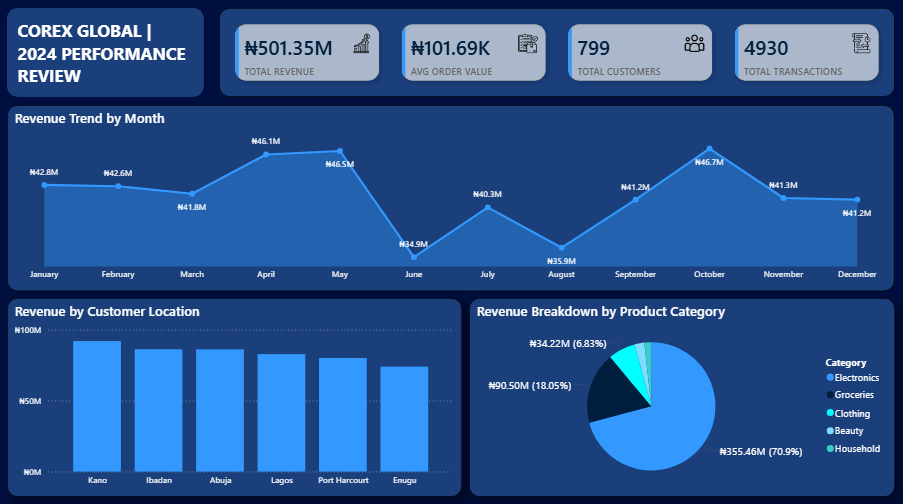

This screenshot's page, from the dashboard's own definition file:
{"tool":"powerbi","page":{"name":"Executive Overview","canvas":[1280,720],"ordinal":0},"visuals":[{"type":"textbox","box":[9.9,11.3,279.2,126.1],"z":0},{"type":"areaChart","title":"Revenue Trend by Month","fields":{"Y":["Sum(monthly rev 2024.Monthly_Revenue)"],"Category":["monthly rev 2024.MonthName"]},"box":[10.1,149.5,1258.2,263.7],"z":1000},{"type":"columnChart","title":"Revenue by Customer Location","fields":{"Y":["Sum(rev by loc.Revenue)"],"Category":["rev by loc.Location"]},"box":[9.9,422.4,644.9,282],"z":2000},{"type":"pieChart","title":"Revenue Breakdown by Product Category","fields":{"Y":["Sum(rev by cat.Revenue)"],"Category":["rev by cat.Category"]},"box":[664.7,422.4,603.8,282],"z":3000},{"type":"cardVisual","fields":{"Data":["Sum(tot rev 2024.Total_Revenue_2024)","Sum(avg ord val.Avg_Order_Value_2024)","Sum(uniq cust 2024.Unique_Customers_2024)","Sum(tot transc 2024.Total_Transactions_2024)"]},"box":[310.4,11.3,958.1,126.1],"z":4000}]}

Visuals, with their boxes in screenshot pixels (x1, y1, x2, y2), scaled from the page's 1280x720 canvas onto the 903x504 screenshot:
textbox: 7,8,204,96
"Revenue Trend by Month" areaChart: 7,105,895,289
"Revenue by Customer Location" columnChart: 7,296,462,493
"Revenue Breakdown by Product Category" pieChart: 469,296,895,493
cardVisual - Sum(tot rev 2024.Total_Revenue_2024) x Sum(avg ord val.Avg_Order_Value_2024): 219,8,895,96
